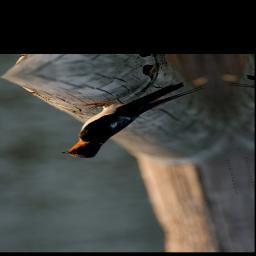Swallow: (41, 79, 224, 165)
